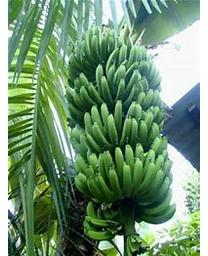banana: (63, 25, 175, 253)
